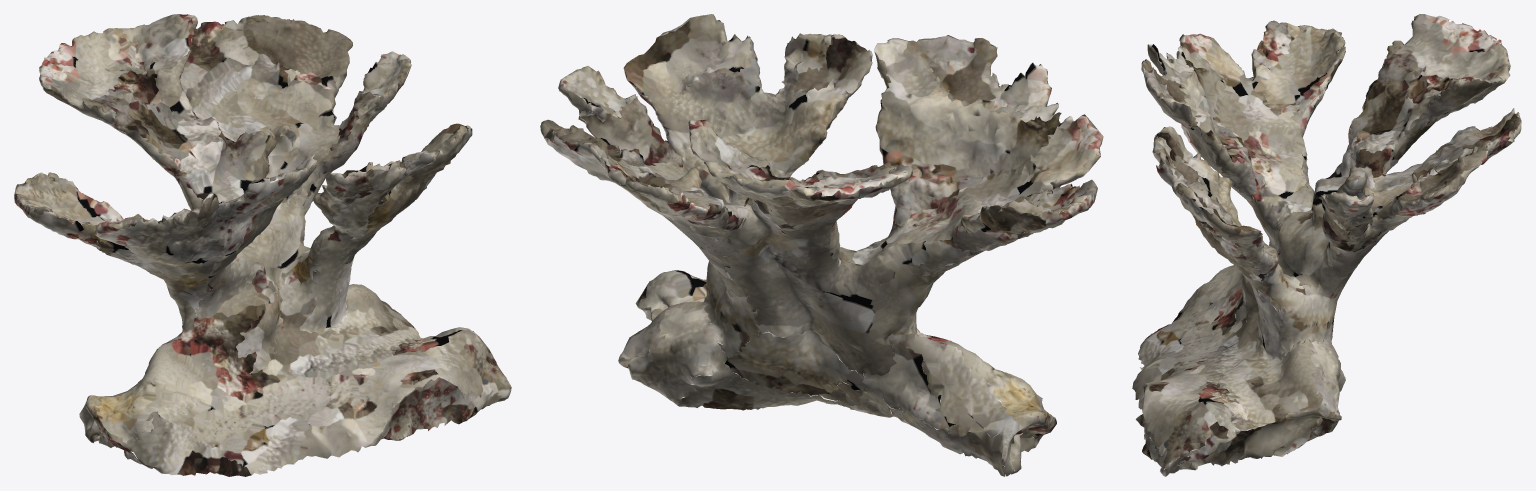
The model's file is coral1.fbx.
3 views of the same model, side by side, from view 1: azimuth 30°, elevation 25°; view 2: azimuth 150°, elevation 25°; view 3: azimuth 270°, elevation 25° (orthographic). The views are drawn at different scales.
Parts seen in each view (by area): view 1: Mesh_0.001; view 2: Mesh_0.001; view 3: Mesh_0.001.
Boxes of the visible parts, x1,y1,x2,y2 form: Mesh_0.001: [14, 14, 511, 476]; Mesh_0.001: [540, 14, 1103, 476]; Mesh_0.001: [1132, 14, 1521, 476].
Bounding box in the file's own units: 30.99 × 22.32 × 24.66.
1 material, 1 textured.
